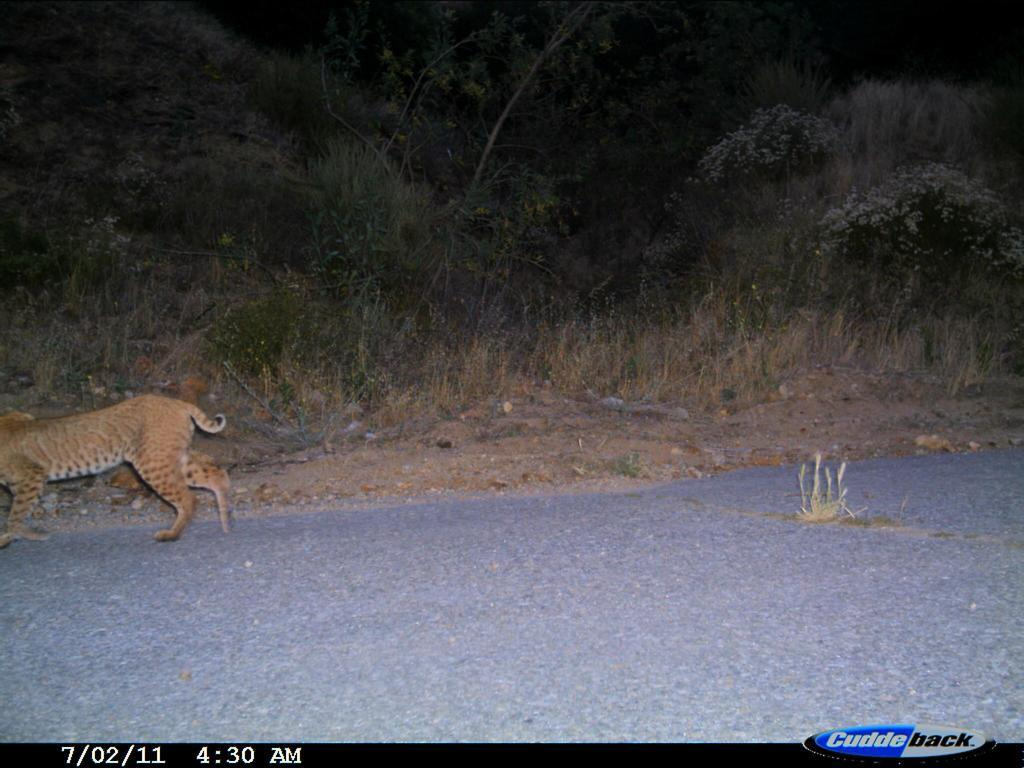bobcat: (6, 386, 259, 547)
